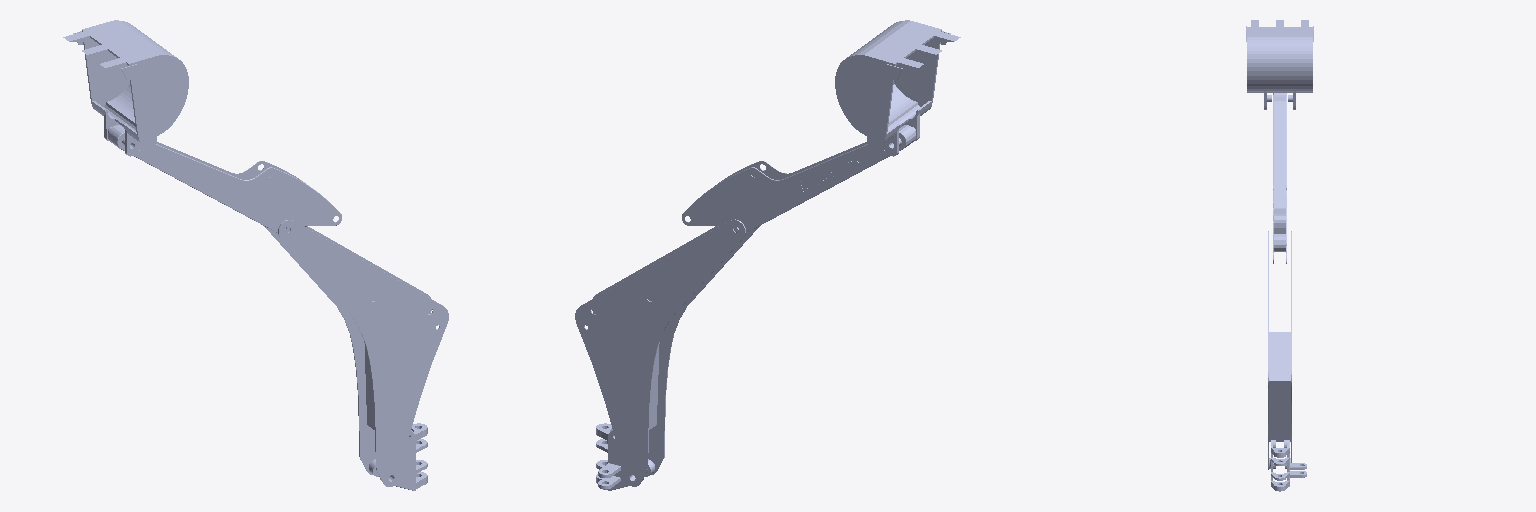
robot.urdf — jcb_description:
<?xml version="1.0" encoding="utf-8" ?>
<!-- This URDF was automatically created by SolidWorks to URDF Exporter! Originally created by [author] ([email redacted]) 
     Commit Version: 1.6.0-4-g7f85cfe  Build Version: 1.6.7995.38578
     For more information, please see http://wiki.ros.org/sw_urdf_exporter -->
<robot name="jcb_description">

    <link name="world"/>
    <joint name="world_joint" type="fixed">
        <origin xyz="0 0 0.32" rpy="0 0 0" />
        <parent link="world"/>
        <child link="base_link"/>
    </joint>

    <link name="base_link">
        
        <inertial>
            <origin xyz="-0.58958 -1.2089 -0.058352" rpy="0 0 0" />
            <mass value="12.619" />
            <inertia ixx="0.10924" ixy="0.0065068" ixz="-0.00031555" iyy="0.072779" iyz="0.0055825" izz="0.11304" />
        </inertial>
        <!-- -0.095 -0.1292 -0.0365 -->
        <visual>
            <origin xyz="-0.49458 0.070848 1.2454" rpy="1.5708 0 3.1416" />
            <geometry>
                <mesh filename="package://jcb_description/meshes/base_link.STL" />
            </geometry>
            <material name="">
                <color rgba="0.79216 0.81961 0.93333 1" />
            </material>
        </visual>
        <collision>
            <origin xyz="-0.49458 0.070848 1.2454" rpy="1.5708 0 3.1416" />
            <geometry>
                <mesh filename="package://jcb_description/meshes/base_link.STL" />
            </geometry>
        </collision>
    </link>
    <link name="Link_1">
        
        <inertial>
            <origin xyz="-0.0041607 0.52862 1.7433E-09" rpy="0 0 0" />
            <mass value="106.93" />
            <inertia ixx="5.1479" ixy="-1.2145" ixz="-8.6944E-09" iyy="1.3676" iyz="2.3301E-07" izz="6.0491" />
        </inertial>

        <visual>
            <origin xyz="0 0 0" rpy="1.5708 0 3.1416" />
            <geometry>
                <mesh filename="package://jcb_description/meshes/Link_1.STL" />
            </geometry>
            <material name="">
                <color rgba="0.79216 0.81961 0.93333 1" />
            </material>
        </visual>
        <collision>
            <origin xyz="0 0 0" rpy="1.5708 0 3.1416" />
            <geometry>
                <mesh filename="package://jcb_description/meshes/Link_1.STL" />
            </geometry>
        </collision>
    </link>
    <joint name="Joint_1" type="revolute">
        <origin xyz="0 0 0" rpy="0 0 0" />
        <parent link="base_link" />
        <child link="Link_1" />
        <axis xyz="0 1 0" />
        <limit lower="-2.2441" upper="0" effort="300" velocity="1.0471" />
    </joint>

    <link name="Link_2">
        <inertial>
            <origin xyz="0.22115 0.23043 -0.070206" rpy="0 0 0" />
            <mass value="16.196" />
            <inertia ixx="0.49447" ixy="-0.74465" ixz="-0.00015961" iyy="1.3533" iyz="-8.8329E-05" izz="1.8132" />
        </inertial>

        <visual>
            <origin xyz="0 0.07025 0" rpy="1.5708 0 3.1416" />
            <geometry>
                <mesh filename="package://jcb_description/meshes/Link_2.STL" />
            </geometry>
            <material name="">
                <color rgba="0.79216 0.81961 0.93333 1" />
            </material>
        </visual>
        <collision>
            <origin xyz="0 0 0" rpy="1.5708 0 3.1416" />
            <geometry>
                <mesh filename="package://jcb_description/meshes/Link_2.STL" />
            </geometry>
        </collision>
    </link>
    <joint name="Joint_2" type="revolute">
        <origin xyz="-0.49448 0 1.2454" rpy="0 0 0" />
        <parent link="Link_1" />
        <child link="Link_2" />
        <axis xyz="0 1 0" />
        <limit lower="-1.938" upper="0" effort="50" velocity="1.0471" />
    </joint>
    <link name="Link_3">
        
        <inertial>
            <origin xyz="-0.072234 0.24876 -0.04" rpy="0 0 0" />
            <mass value="5.5741" />
            <inertia ixx="0.18671" ixy="-0.012486" ixz="-3.3237E-07" iyy="0.14536" iyz="-1.6462E-07" izz="0.12711" />
        </inertial>

        <visual>
            <origin xyz="0 0.04 0" rpy="1.5708 0 3.1416" />
            <geometry>
                <mesh filename="package://jcb_description/meshes/Link_3.STL" />
            </geometry>
            <material name="">
                <color rgba="0.79216 0.81961 0.93333 1" />
            </material>
        </visual>
        <collision>
            <origin xyz="0 0 0" rpy="1.5708 0 3.1416" />
            <geometry>
                <mesh filename="package://jcb_description/meshes/Link_3.STL" />
            </geometry>
        </collision>
    </link>
    <joint name="Joint_3" type="revolute">
        <origin xyz="-0.754581904896383 0 0.569201714621058" rpy="0 0 0" />
        <parent link="Link_2" />
        <child link="Link_3" />
        <axis xyz="0 1 0" />
        <limit lower="-3.3241" upper="0" effort="10" velocity="1.0471" />
    </joint>
    
    <transmission name="trans_Joint_1">
        <type>transmission_interface/SimpleTransmission</type>
        <joint name="Joint_1">
            <hardwareInterface>hardware_interface/EffortJointInterface</hardwareInterface>
        </joint>
        <actuator name="Joint_1_motor">
            <hardwareInterface>hardware_interface/EffortJointInterface</hardwareInterface>
            <mechanicalReduction>1</mechanicalReduction>
        </actuator>
    </transmission>
    <transmission name="trans_Joint_2">
        <type>transmission_interface/SimpleTransmission</type>
        <joint name="Joint_2">
            <hardwareInterface>hardware_interface/EffortJointInterface</hardwareInterface>
        </joint>
        <actuator name="Joint_2_motor">
            <hardwareInterface>hardware_interface/EffortJointInterface</hardwareInterface>
            <mechanicalReduction>1</mechanicalReduction>
        </actuator>
    </transmission>
    <transmission name="trans_Joint_3">
        <type>transmission_interface/SimpleTransmission</type>
        <joint name="Joint_3">
            <hardwareInterface>hardware_interface/EffortJointInterface</hardwareInterface>
        </joint>
        <actuator name="Joint_3_motor">
            <hardwareInterface>hardware_interface/EffortJointInterface</hardwareInterface>
            <mechanicalReduction>1</mechanicalReduction>
        </actuator>
    </transmission>
    <gazebo>
        <plugin name="gazebo_ros_control" filename="libgazebo_ros_control.so">
            <robotNamespace>/</robotNamespace>
        </plugin>
    </gazebo>
</robot>

--- What the picture shows (computed from the rendered views, not written in the file) ---
The picture shows the robot from 3 angles, left to right: view 1: azimuth 30°, elevation 25°; view 2: azimuth 150°, elevation 25°; view 3: azimuth 270°, elevation 25°; orthographic projection.
Robot: jcb_description — 5 links, 4 joints (3 revolute, 1 fixed); root link world; default pose: all joints at 0.
Links seen in each view (by area): view 1: Link_1, Link_3, Link_2, base_link; view 2: Link_1, Link_3, Link_2, base_link; view 3: Link_3, Link_1, Link_2, base_link.
Link boxes in pixels (x1,y1,x2,y2): Link_1: [264, 220, 448, 486]; Link_3: [63, 20, 188, 156]; Link_2: [108, 125, 341, 232]; base_link: [369, 423, 427, 490]; Link_1: [575, 219, 759, 486]; Link_3: [835, 20, 960, 156]; Link_2: [682, 125, 915, 232]; base_link: [596, 423, 654, 490]; Link_3: [1246, 20, 1313, 109]; Link_1: [1268, 231, 1291, 469]; Link_2: [1273, 93, 1286, 263]; base_link: [1269, 440, 1306, 491].
Bounding box of the posed robot: 1.7 × 0.4 × 2.35 m (x, y, z).
Meshes: 4 distinct files referenced, 4 mesh visuals loaded (4 binary STL).
